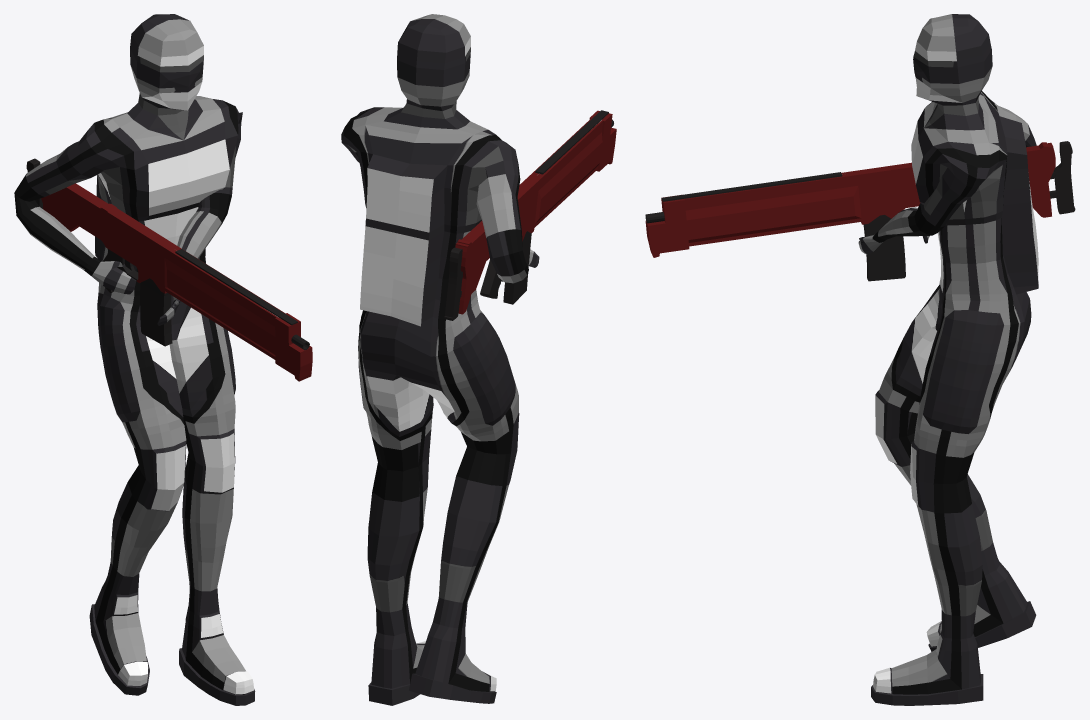
The model's file is SCR1.obj.
The picture shows the model from 3 angles, left to right: view 1: azimuth 30°, elevation 25°; view 2: azimuth 150°, elevation 25°; view 3: azimuth 270°, elevation 25°; orthographic projection. The views are drawn at different scales.
Visible parts, largest first — view 1: metarig_object_metarig_mesh, Cube.001; view 2: metarig_object_metarig_mesh, Cube.001; view 3: metarig_object_metarig_mesh, Cube.001.
Boxes of the visible parts, x1,y1,x2,y2 form: metarig_object_metarig_mesh: (14, 14, 255, 705); Cube.001: (26, 158, 312, 381); metarig_object_metarig_mesh: (341, 14, 539, 705); Cube.001: (444, 110, 616, 320); metarig_object_metarig_mesh: (858, 14, 1038, 705); Cube.001: (645, 141, 1075, 281).
Size of the model in its own units: 0.4806 by 1.54 by 0.9054.
2 materials, 2 textured.
